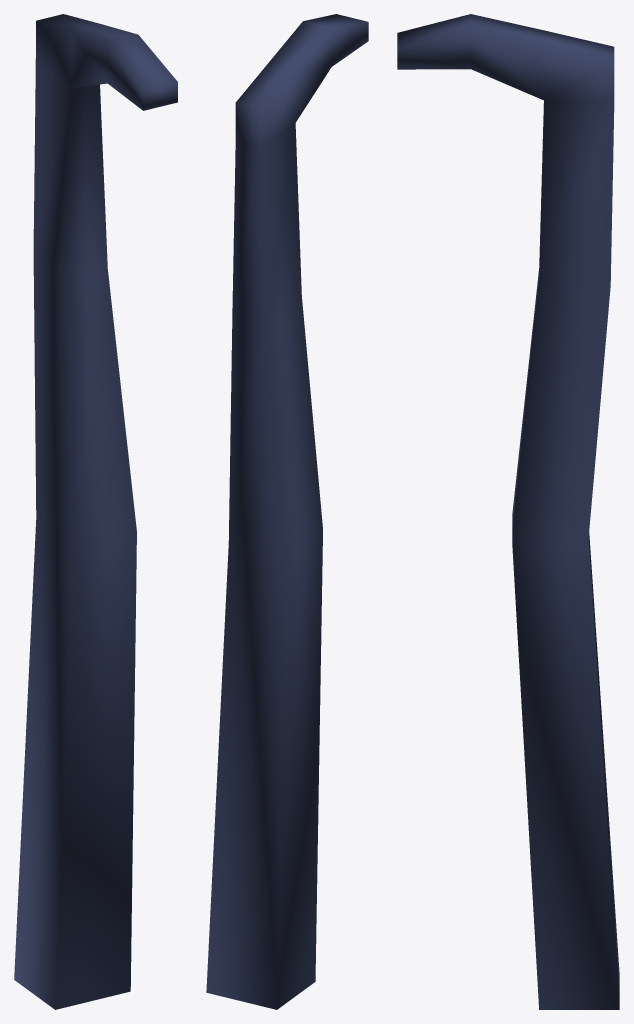
File: PosteMetal.fbx
3 views of the same model, side by side, from view 1: azimuth 30°, elevation 25°; view 2: azimuth 150°, elevation 25°; view 3: azimuth 270°, elevation 25° (orthographic). The views are drawn at different scales.
Visible parts, largest first — view 1: PosteLamparina; view 2: PosteLamparina; view 3: PosteLamparina.
Boxes of the visible parts, box(x1,y1,x2,y2) form: PosteLamparina: box(14, 14, 177, 1009); PosteLamparina: box(206, 14, 368, 1009); PosteLamparina: box(397, 14, 619, 1009).
Size of the model in its own units: 26.74 by 69.63 by 335.
